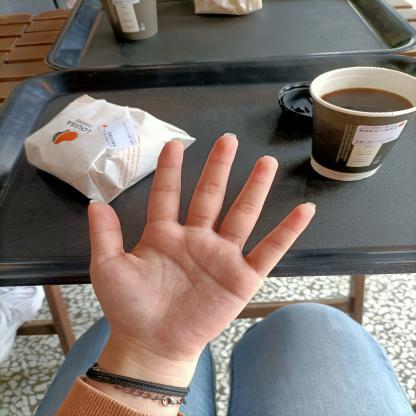bare_hand: (80, 121, 326, 365)
